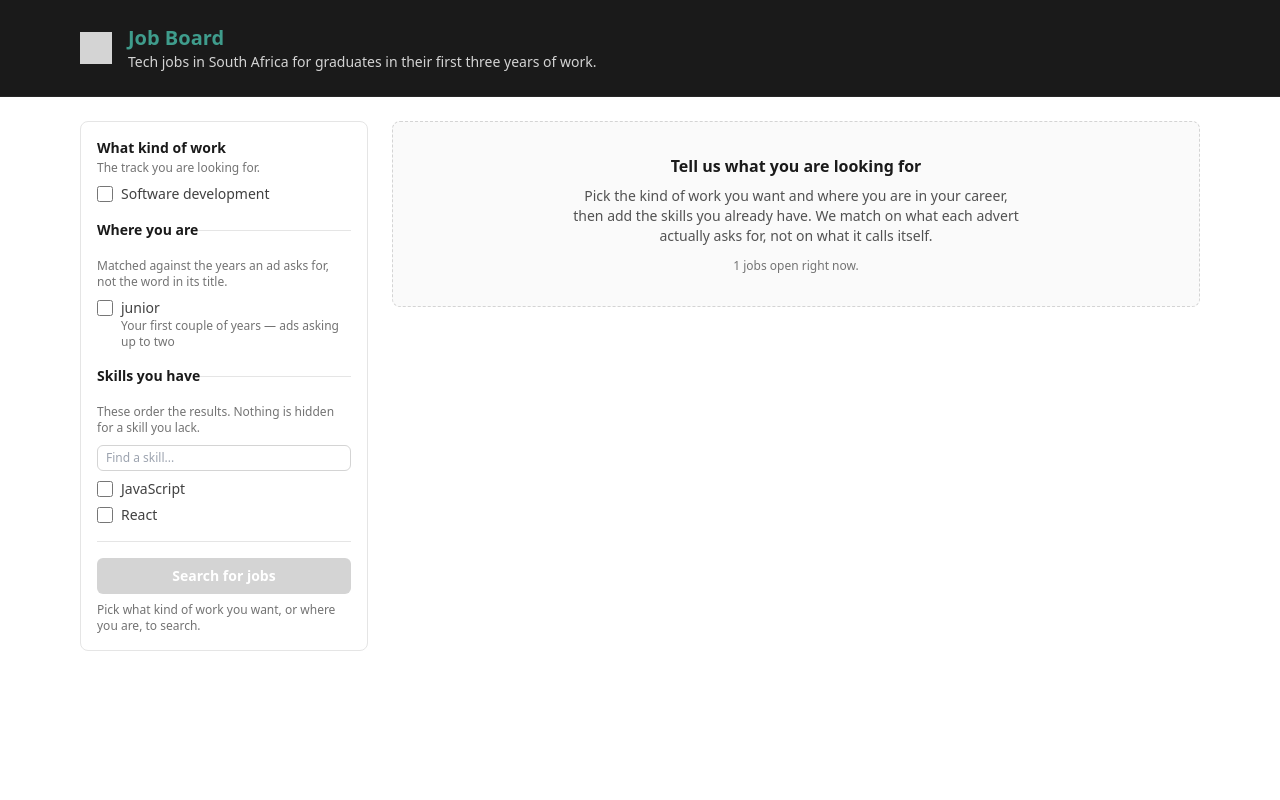
Test: App › shows the advert on demand, so nobody clicks Apply to find out what the job wants
Expected: the text "1 jobs open right now." is shown, [733, 257, 859, 274]
Click the checkbox labelled "Software development" at point(105, 194), box [97, 186, 113, 202]
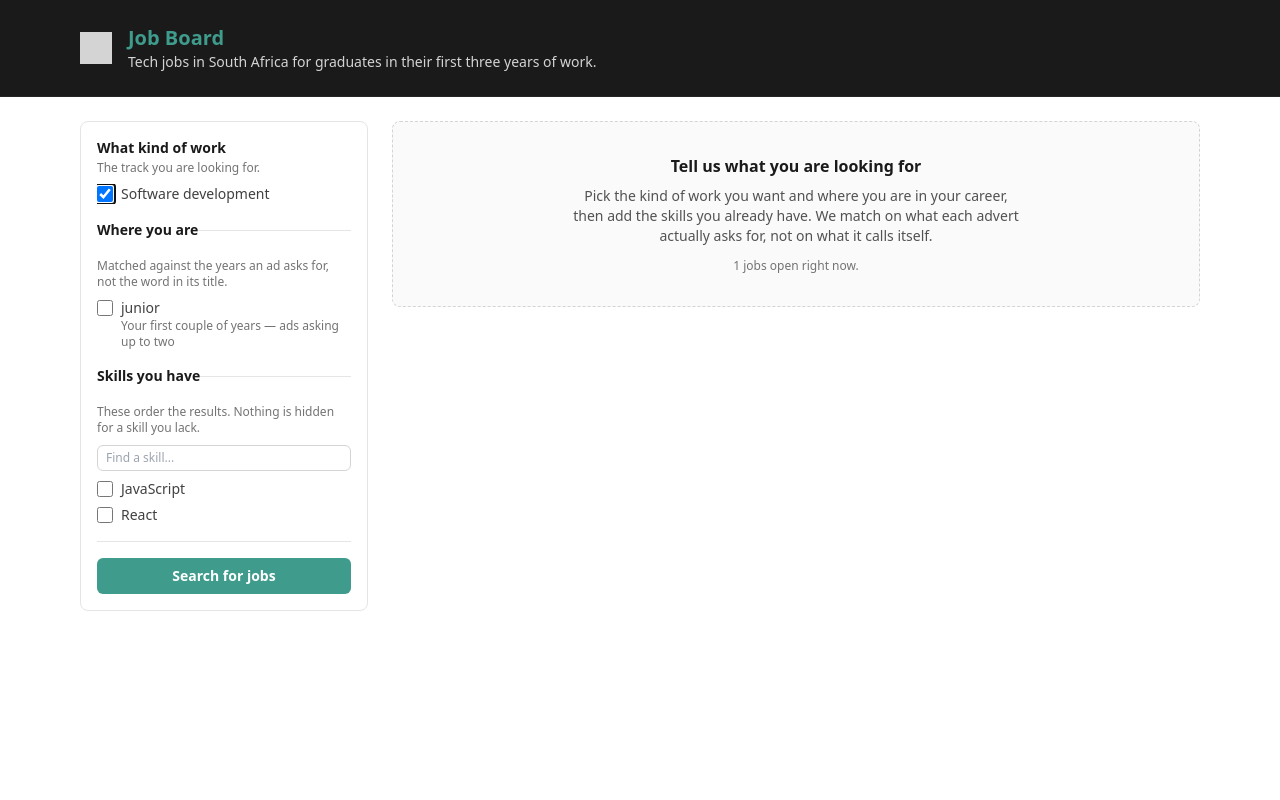
Click the button "Search for jobs" at point(224, 576), box [97, 558, 351, 594]
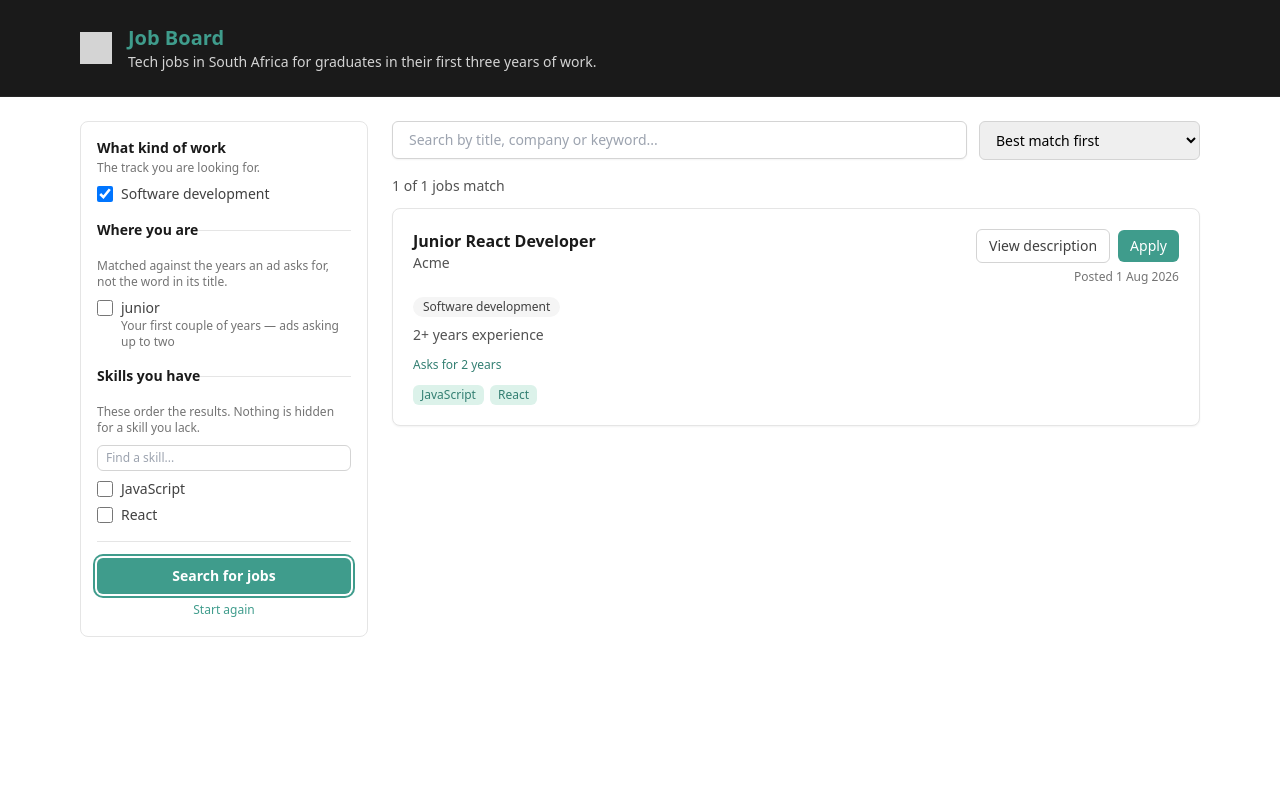
Click the button "View description" at point(1043, 246), box [976, 229, 1110, 263]
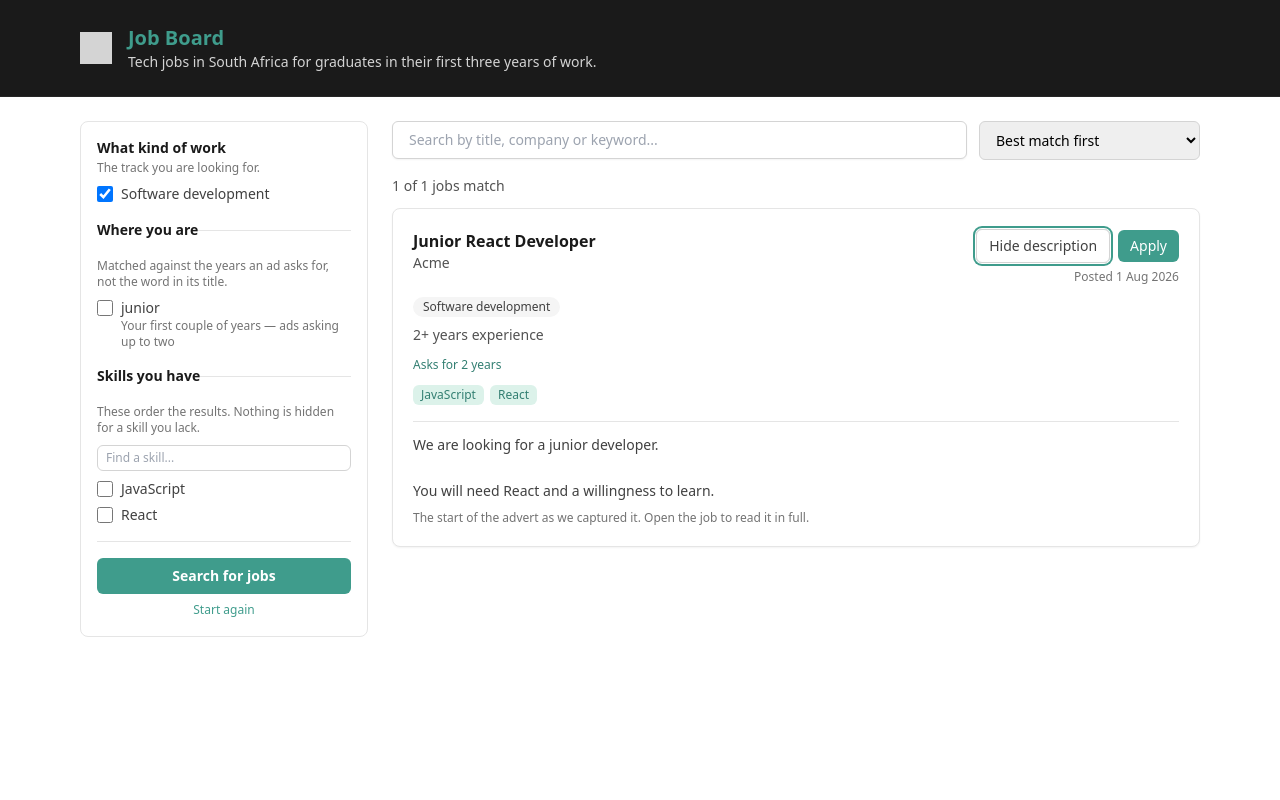
Expected: the text "willingness to learn" is shown, [413, 435, 714, 500]
Expected: the button "Hide description" is expanded
Click the button "Hide description" at point(1043, 246), box [976, 229, 1110, 263]
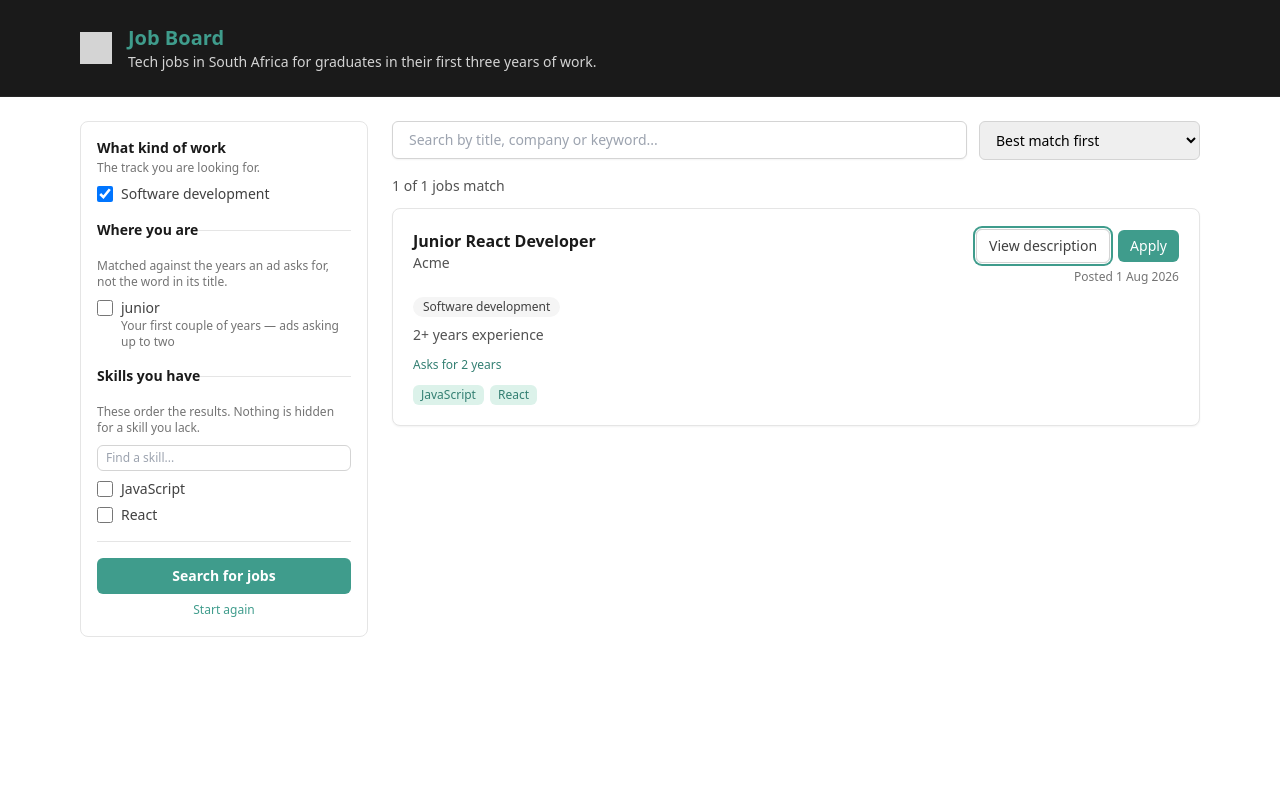
Expected: the text "willingness to learn" is gone
